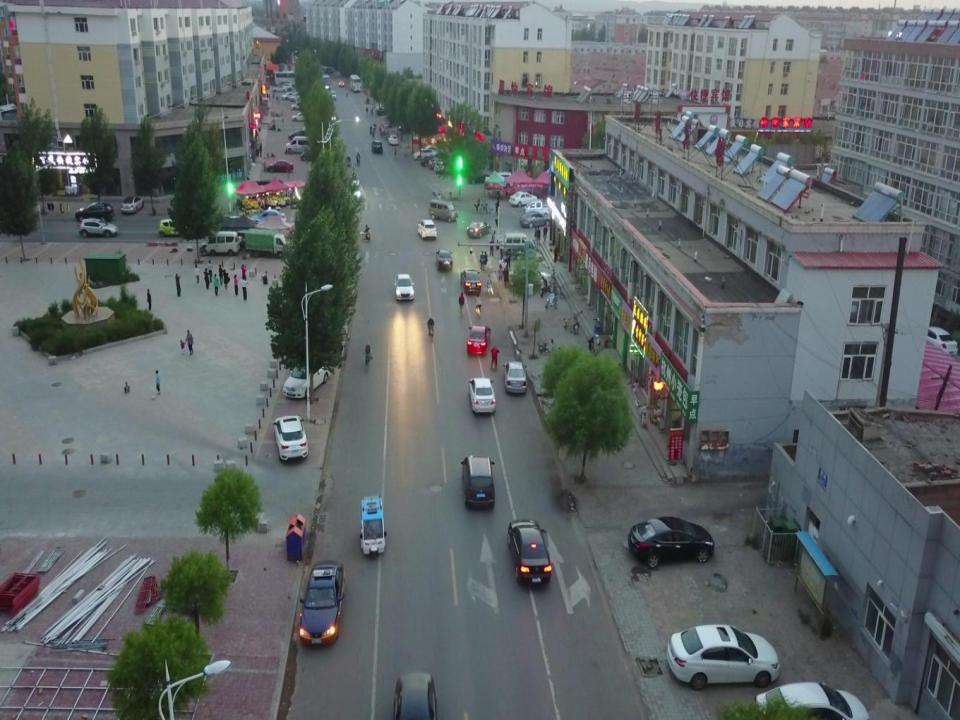bus: (272, 71, 299, 84), (350, 74, 361, 93), (322, 74, 331, 90)
car: (668, 624, 780, 688), (628, 517, 714, 569), (753, 682, 870, 718), (300, 562, 343, 644), (508, 518, 552, 584), (283, 350, 330, 399), (394, 671, 438, 717), (460, 455, 496, 508), (274, 412, 310, 465), (469, 376, 497, 416), (503, 360, 527, 396), (74, 200, 113, 222), (79, 218, 118, 238), (466, 325, 492, 354), (510, 266, 550, 284), (158, 218, 192, 238), (460, 267, 482, 294), (520, 211, 552, 229), (394, 272, 414, 299), (420, 150, 452, 166), (508, 191, 537, 208), (417, 218, 439, 240), (121, 195, 143, 214), (466, 221, 490, 238), (466, 170, 491, 186), (429, 156, 455, 170), (435, 250, 453, 270), (487, 173, 511, 188), (434, 159, 458, 174), (267, 160, 295, 172), (414, 149, 438, 161), (300, 147, 319, 161), (416, 145, 438, 157), (397, 122, 416, 134), (349, 180, 360, 200), (289, 128, 307, 138), (374, 102, 390, 113), (371, 140, 383, 154), (376, 106, 391, 116), (292, 111, 306, 121), (387, 135, 398, 145), (282, 90, 293, 100), (280, 82, 293, 90), (291, 101, 303, 109), (290, 90, 299, 100), (273, 84, 283, 90), (338, 80, 345, 87)
truck: (244, 228, 288, 258), (510, 240, 536, 261), (525, 200, 554, 217)
van: (205, 231, 241, 258), (429, 199, 458, 222), (503, 234, 530, 254), (287, 138, 312, 152), (330, 90, 338, 101)
